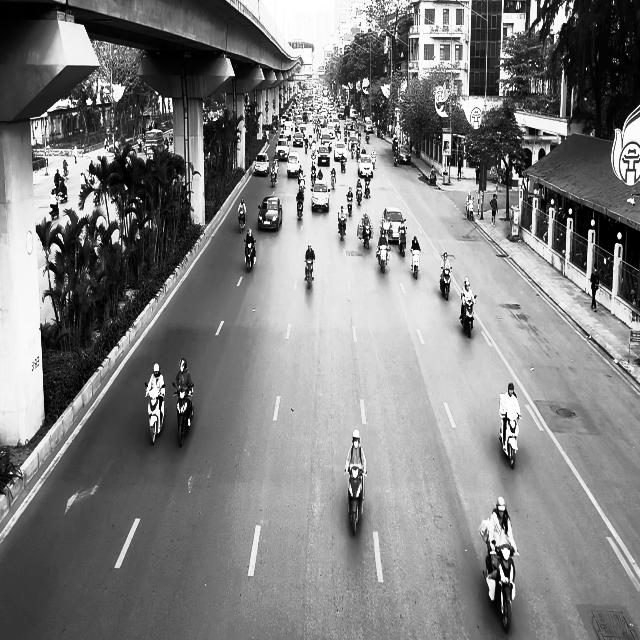car: (258, 196, 282, 231), (382, 207, 404, 243), (312, 180, 331, 212), (254, 152, 270, 175), (358, 154, 374, 177), (287, 152, 300, 178), (397, 145, 412, 164), (334, 141, 347, 161)
motorbike: (480, 519, 519, 633), (499, 395, 521, 468), (345, 466, 367, 535), (173, 382, 195, 446), (145, 382, 167, 445), (460, 293, 477, 338), (244, 238, 257, 271), (440, 267, 452, 300), (376, 245, 390, 273), (410, 249, 420, 279), (305, 258, 315, 288), (398, 228, 408, 257), (363, 224, 372, 250), (338, 216, 347, 241), (296, 196, 304, 220), (238, 212, 246, 232), (364, 177, 371, 198), (356, 184, 363, 204), (347, 196, 353, 216), (271, 170, 277, 188), (331, 171, 336, 189)
